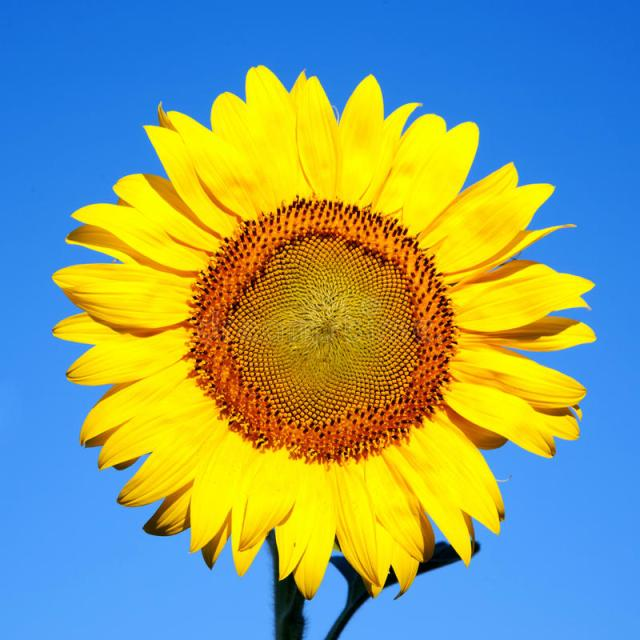sunflower: (48, 67, 605, 612)
